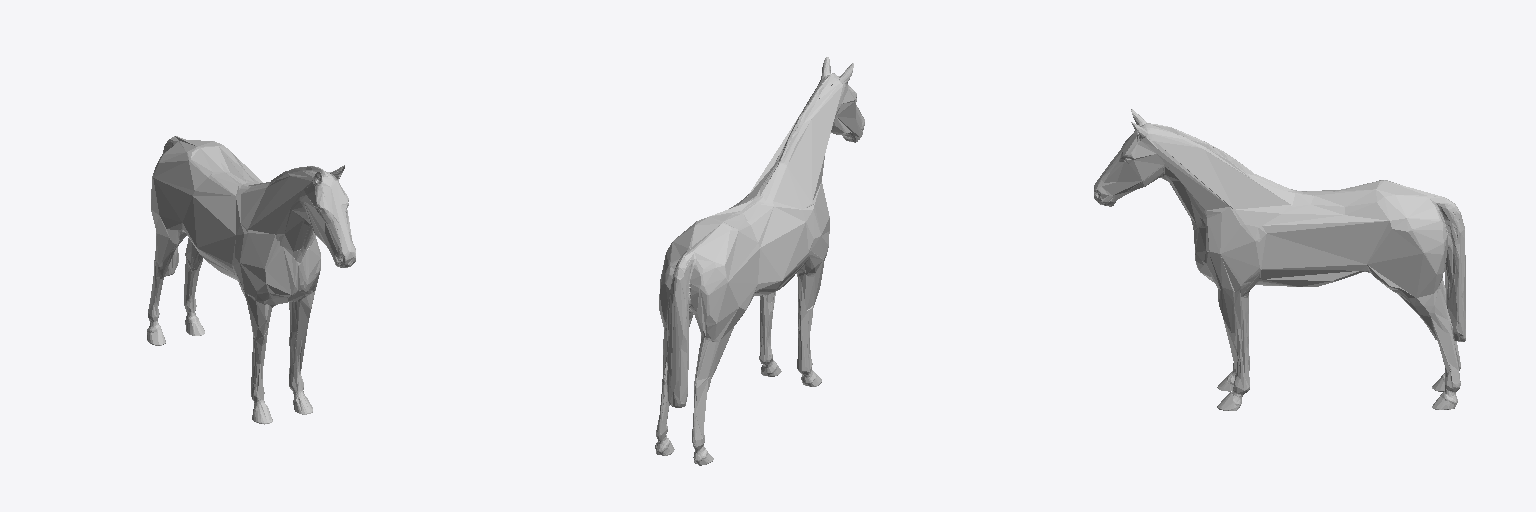
File: Horse3k.obj
The picture shows the model from 3 angles: view 1: azimuth 30°, elevation 25°; view 2: azimuth 150°, elevation 25°; view 3: azimuth 270°, elevation 25°; orthographic projection.
Parts seen in each view (by area): view 1: 16267_American_Paint_Horse_Nuetral_new; view 2: 16267_American_Paint_Horse_Nuetral_new; view 3: 16267_American_Paint_Horse_Nuetral_new.
Part boxes in pixels (x1,y1,x2,y2): 16267_American_Paint_Horse_Nuetral_new: (147, 136, 355, 424); 16267_American_Paint_Horse_Nuetral_new: (655, 57, 864, 465); 16267_American_Paint_Horse_Nuetral_new: (1094, 109, 1465, 410).
Bounding box in the file's own units: 10.82 × 39.77 × 47.52.